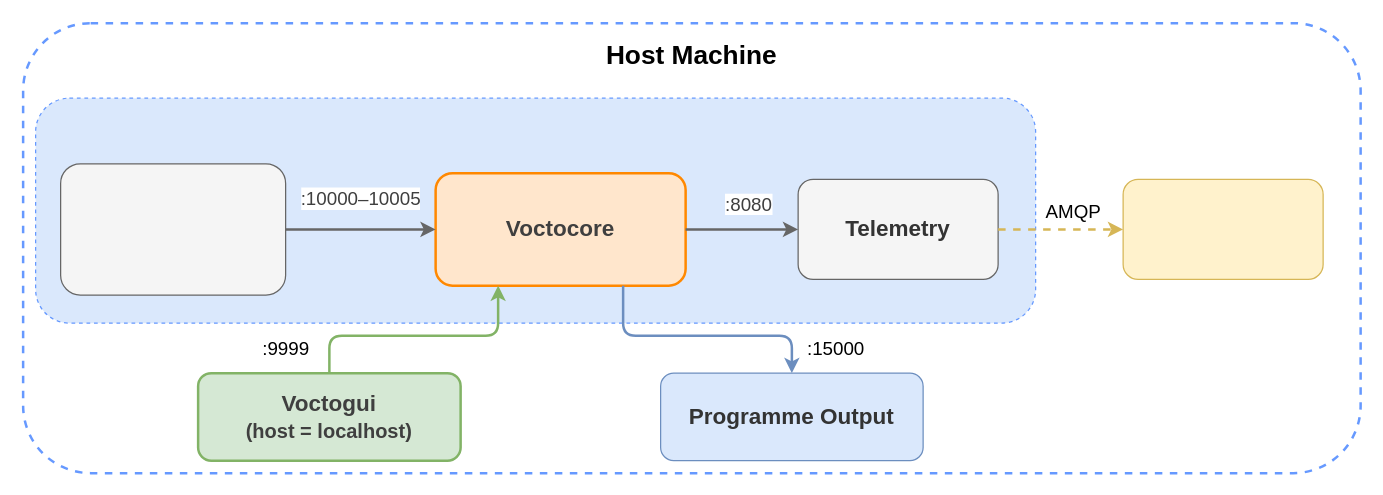
This 1383x495 diagram has some shape labels left out. Here are the shapes that lost their labels. From the top down, the box of each, then its label:
(59, 162, 286, 295): Signal Sources ( FFmpeg)
(34, 97, 1036, 323): Shared Network Namespace (network_mode: service:voctocore)
(1122, 178, 1323, 279): RabbitMQ
